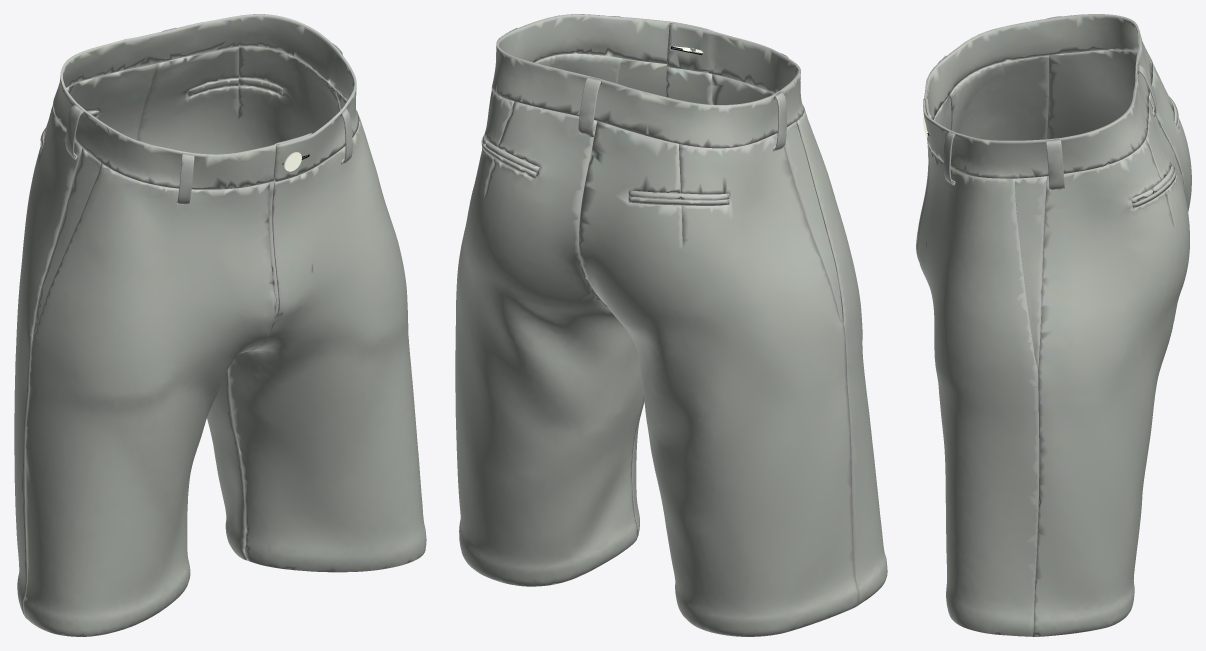
Rendered from women_shorts_without_zip-optimized_1783504804998.glb.
3 renders of one model, left to right at view 1: azimuth 30°, elevation 25°; view 2: azimuth 150°, elevation 25°; view 3: azimuth 270°, elevation 25°, orthographic. The views are drawn at different scales.
Visible parts, largest first — view 1: Men Suit Short Pant.003; view 2: Men Suit Short Pant.003; view 3: Men Suit Short Pant.003.
Part boxes in pixels (x1,y1,x2,y2): Men Suit Short Pant.003: (14,14,426,636); Men Suit Short Pant.003: (455,14,887,636); Men Suit Short Pant.003: (916,14,1191,636).
Bounding box in the file's own units: 0.5229 × 0.6705 × 0.3381.
Materials: 2 (1 with a texture image).
